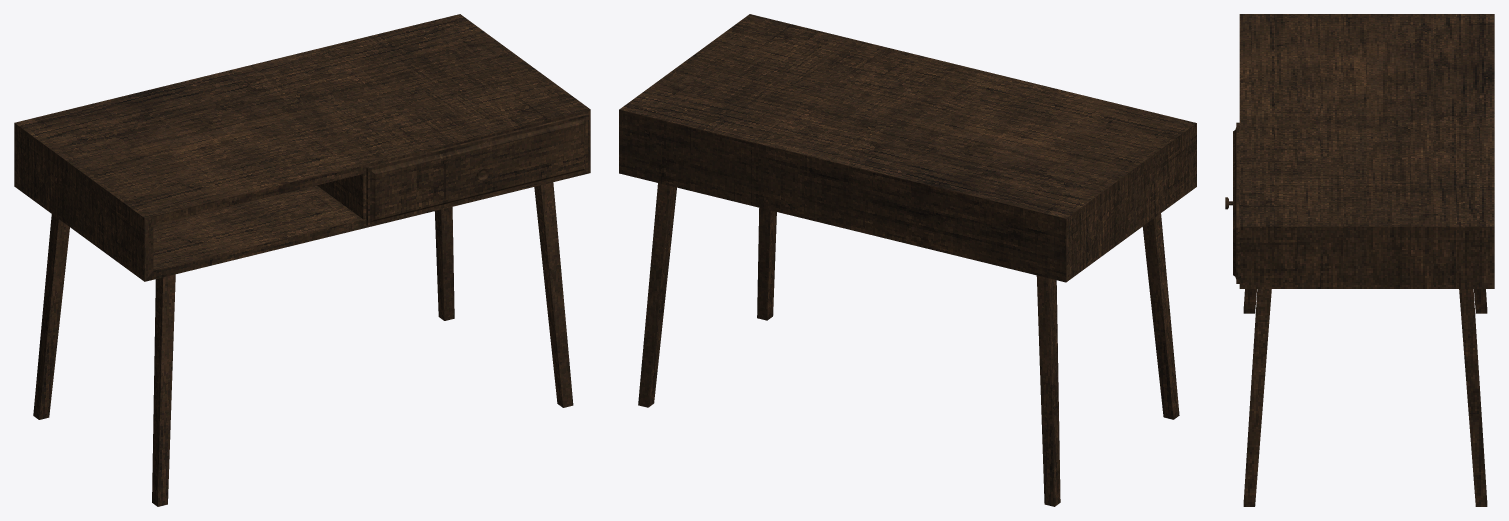
File: tv_table_4_1.glb
3 views of the same model, side by side, from view 1: azimuth 30°, elevation 25°; view 2: azimuth 150°, elevation 25°; view 3: azimuth 270°, elevation 25° (orthographic). The views are drawn at different scales.
Parts seen in each view (by area): view 1: tv_table_4_1, tv_table_4_1_drawer; view 2: tv_table_4_1; view 3: tv_table_4_1, tv_table_4_1_drawer.
Part boxes in pixels (bbox=[...]): tv_table_4_1: bbox=[14, 14, 590, 506]; tv_table_4_1_drawer: bbox=[366, 113, 587, 225]; tv_table_4_1: bbox=[619, 14, 1196, 506]; tv_table_4_1: bbox=[1239, 14, 1494, 506]; tv_table_4_1_drawer: bbox=[1225, 122, 1239, 283].
Size of the model in its own units: 1.54 by 0.97 by 0.8235.
Materials: 1 (1 with a texture image).
